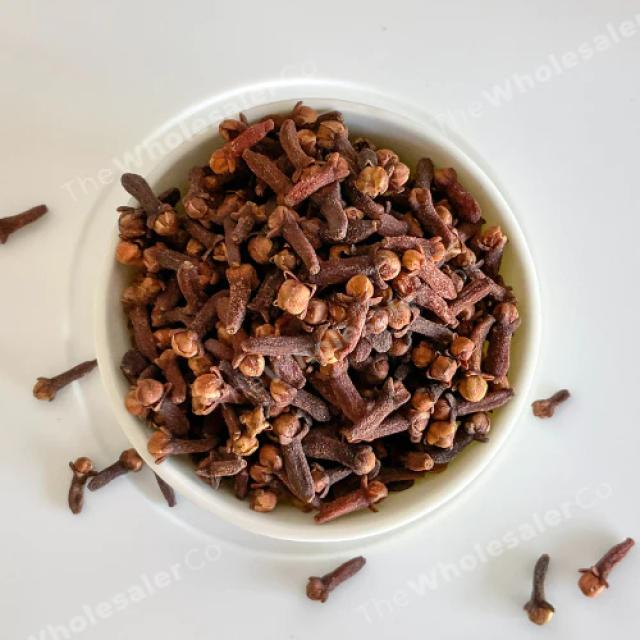clove: (116, 102, 520, 521)
